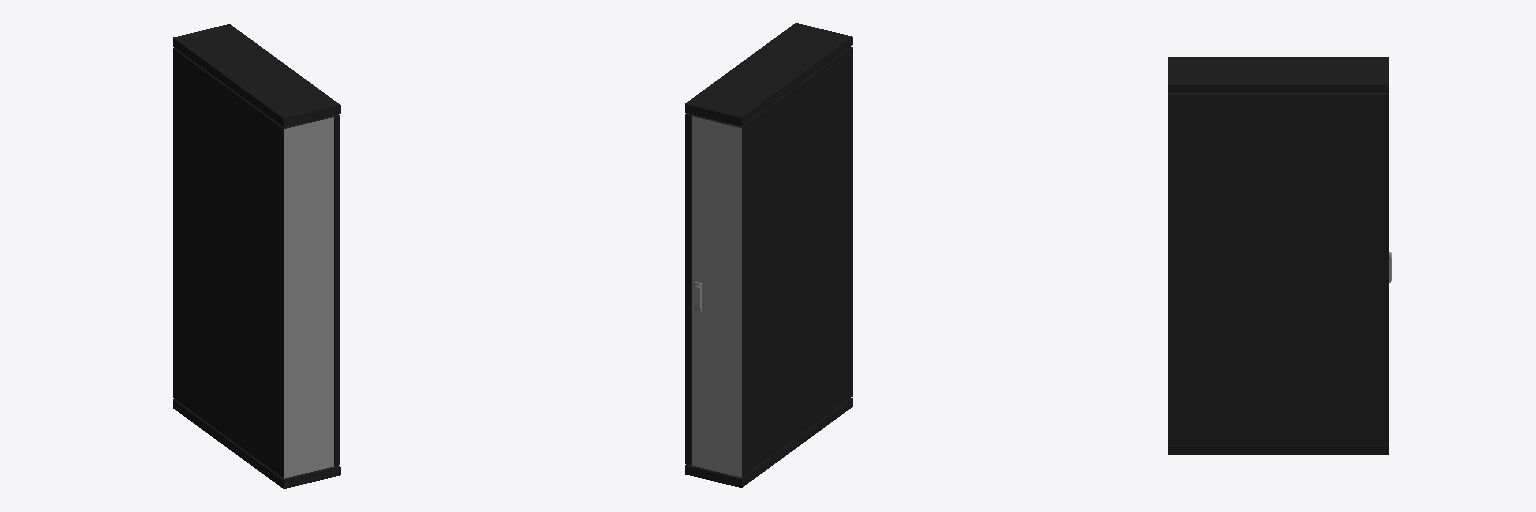
3 renders of one model, left to right at view 1: azimuth 30°, elevation 25°; view 2: azimuth 150°, elevation 25°; view 3: azimuth 270°, elevation 25°, orthographic.
Parts seen in each view (by area): view 1: jigui, Box262, Box265, Box264; view 2: jigui, Box262, Box265, Box264; view 3: Box265, Box262, Box264.
Part boxes in pixels (left/top/right/bottom): jigui: left=173, top=48, right=333, bottom=478; Box262: left=173, top=24, right=340, bottom=126; Box265: left=333, top=114, right=339, bottom=465; Box264: left=173, top=399, right=340, bottom=488; jigui: left=692, top=47, right=852, bottom=477; Box262: left=685, top=23, right=852, bottom=125; Box265: left=685, top=113, right=692, bottom=464; Box264: left=685, top=398, right=852, bottom=487; Box265: left=1168, top=93, right=1388, bottom=444; Box262: left=1168, top=57, right=1388, bottom=92; Box264: left=1168, top=445, right=1388, bottom=454.
Size of the model in its own units: 34 by 212 by 116.